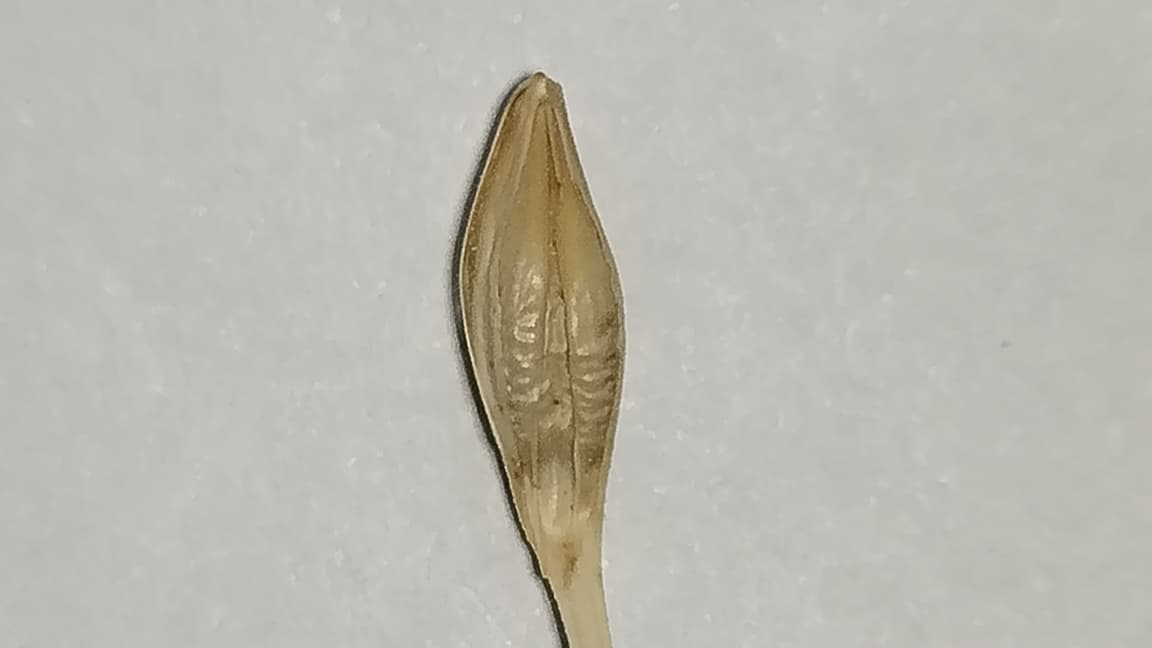healthy-50-40: (453, 73, 622, 647)
shriveledseed: (490, 292, 625, 480)
